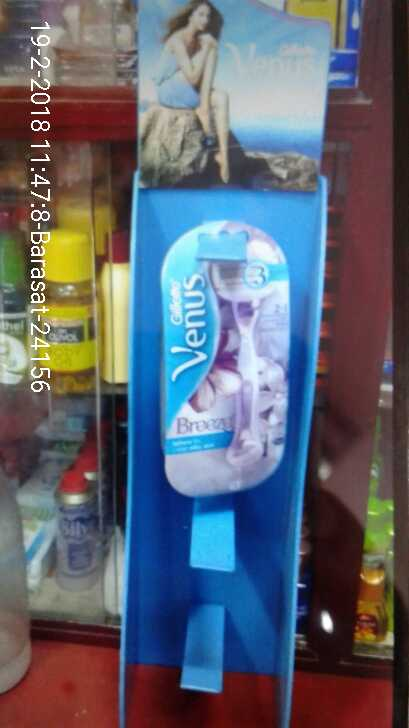venus: (165, 222, 280, 502)
